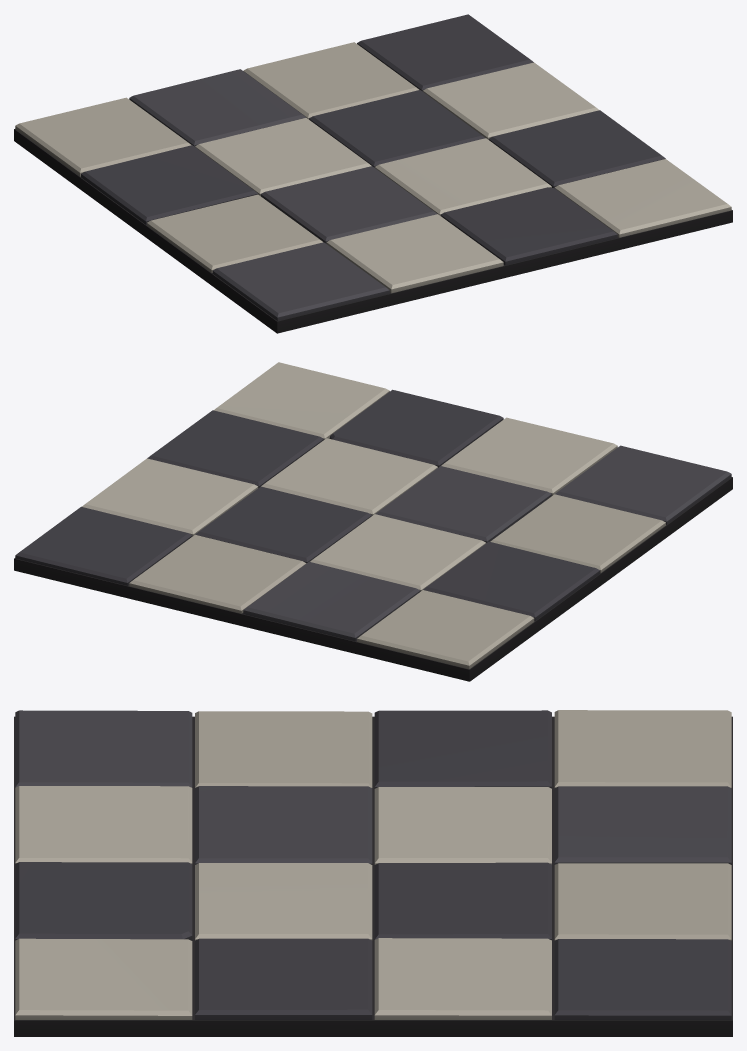
File: floor_checker_large_B.glb
3 views of the same model, one above another, from view 1: azimuth 30°, elevation 25°; view 2: azimuth 150°, elevation 25°; view 3: azimuth 270°, elevation 25° (orthographic). The views are drawn at different scales.
Visible parts, largest first — view 1: Item; view 2: Item; view 3: Item.
Boxes of the visible parts, x1=… form: Item: x1=14, y1=14, x2=732, y2=333; Item: x1=14, y1=362, x2=732, y2=681; Item: x1=14, y1=710, x2=732, y2=1036.
Size of the model in its own units: 4 by 0.1556 by 4.
Materials: 2 (2 with a texture image).
